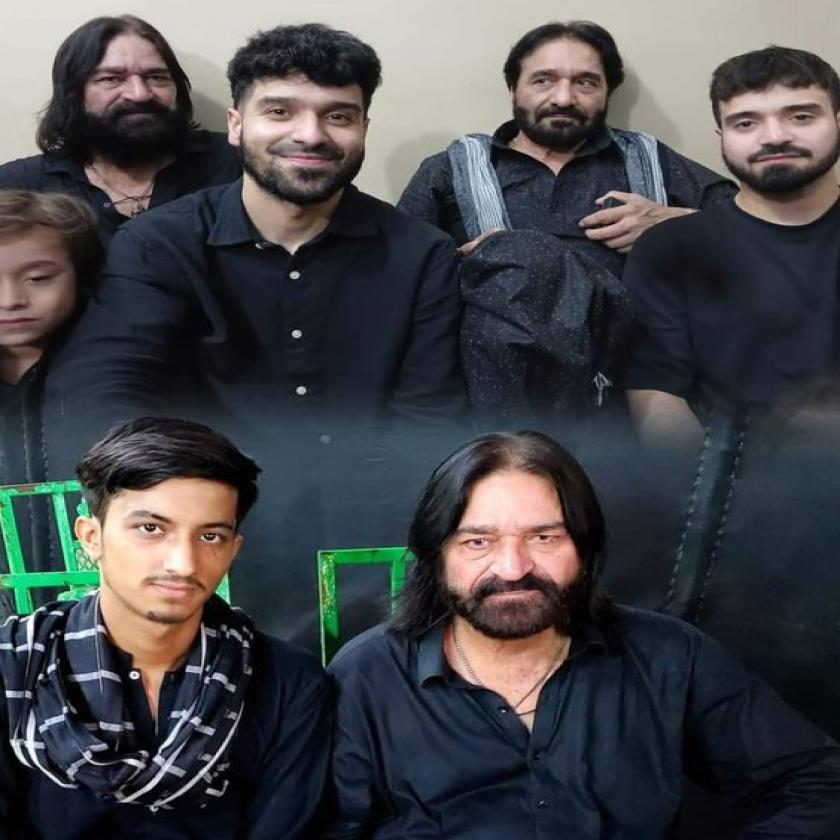Sin_casco: (426, 429, 605, 649), (80, 420, 255, 634), (223, 22, 386, 212), (48, 14, 195, 167), (700, 44, 840, 194), (503, 20, 633, 164)
